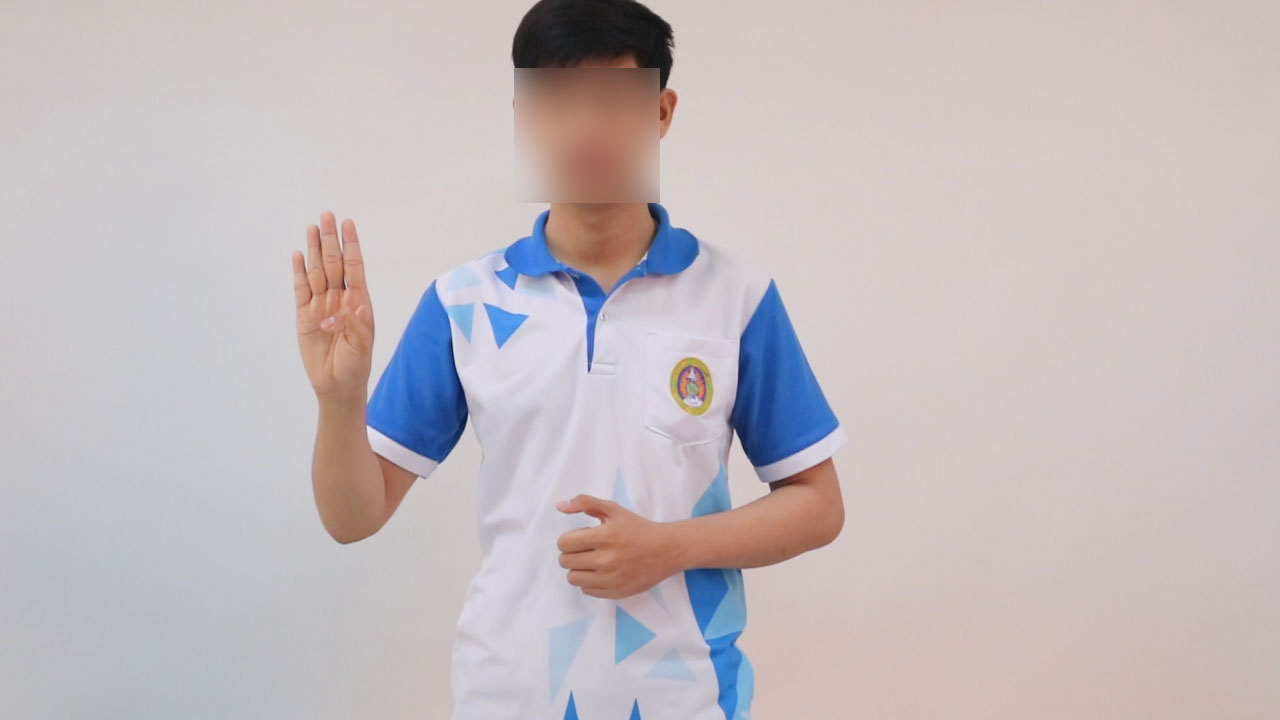bor: (275, 195, 392, 432)
